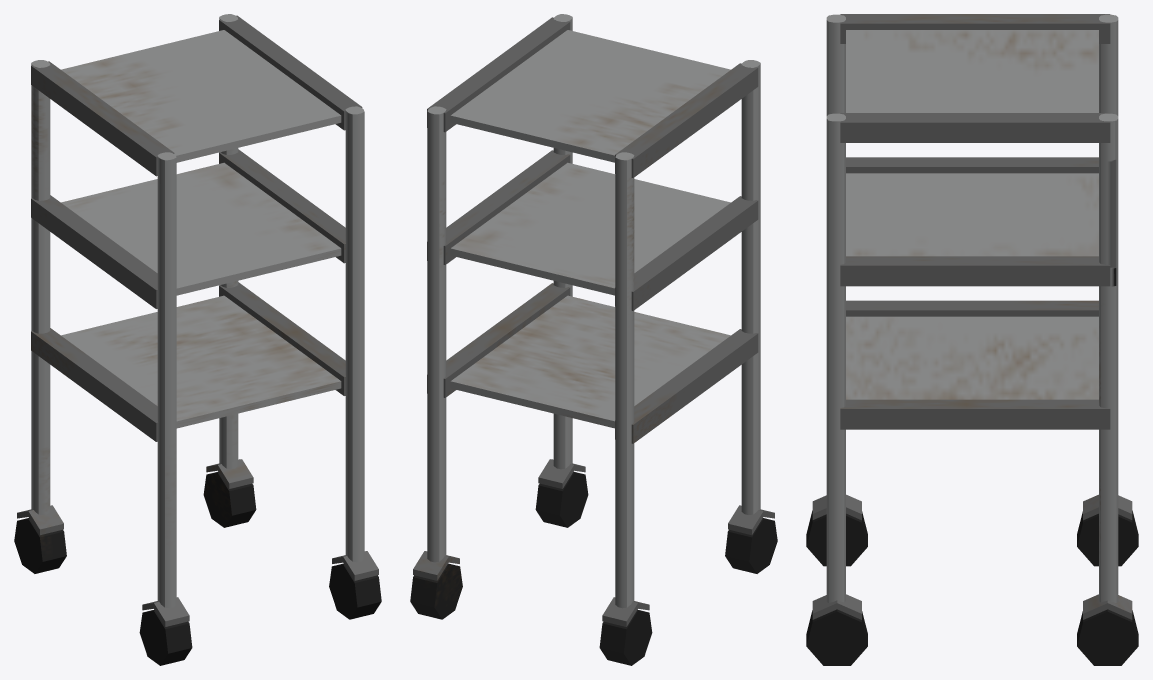
The model's file is Prop_Trolley.fbx.
The picture shows the model from 3 angles, left to right: view 1: azimuth 30°, elevation 25°; view 2: azimuth 150°, elevation 25°; view 3: azimuth 270°, elevation 25°; orthographic projection. The views are drawn at different scales.
Parts seen in each view (by area): view 1: Trolly; view 2: Trolly; view 3: Trolly.
Boxes of the visible parts, <box> form: Trolly: <box>14,14,381,665</box>; Trolly: <box>410,14,777,665</box>; Trolly: <box>806,14,1138,665</box>.
Size of the model in its own units: 39.91 by 89.66 by 49.82.
